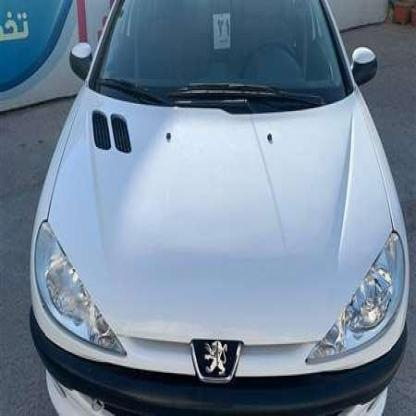Car: (19, 0, 413, 416)
